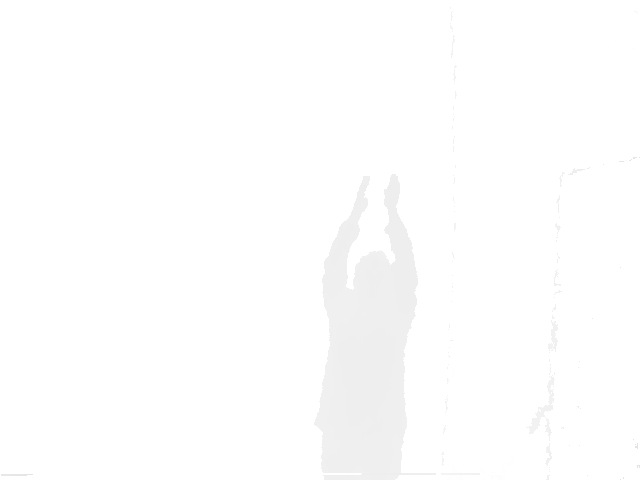hand: (351, 174, 370, 218), (382, 174, 401, 208)
head: (353, 250, 391, 300)
person: (315, 173, 420, 480)
